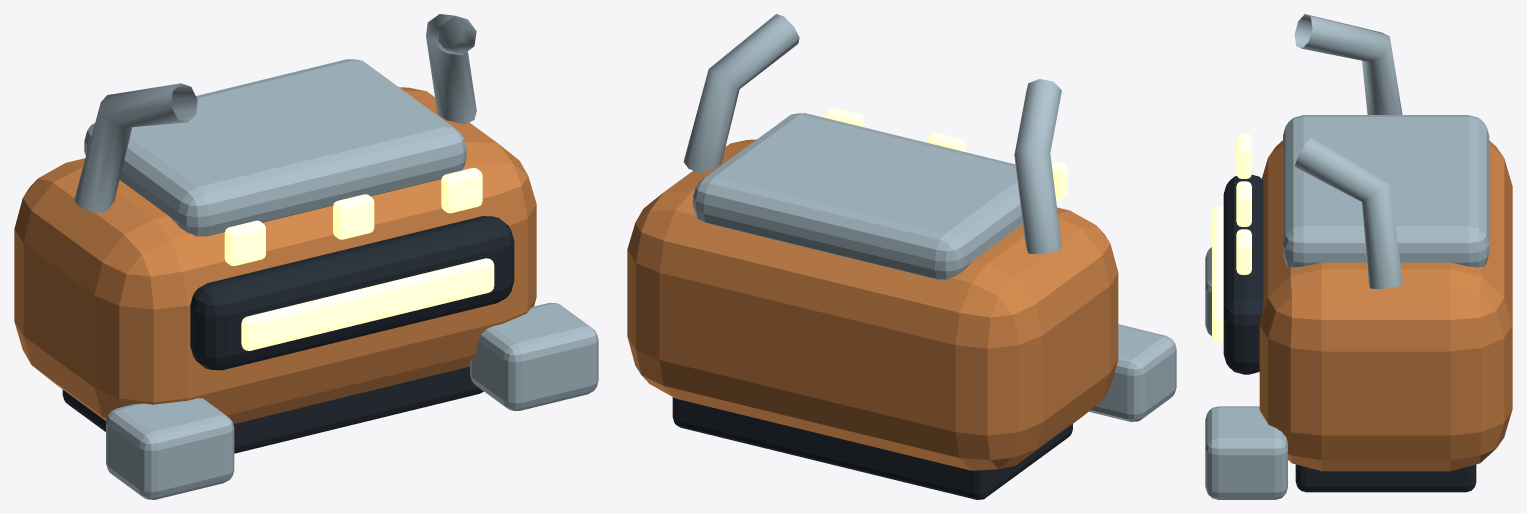
Rendered from SM_EnemyCharger.fbx.
3 renders of one model, left to right at view 1: azimuth 30°, elevation 25°; view 2: azimuth 150°, elevation 25°; view 3: azimuth 270°, elevation 25°, orthographic. The views are drawn at different scales.
Parts seen in each view (by area): view 1: SM_EnemyCharger; view 2: SM_EnemyCharger; view 3: SM_EnemyCharger.
Boxes of the visible parts, x1,y1,x2,y2 form: SM_EnemyCharger: (14,14,598,499); SM_EnemyCharger: (627,14,1176,499); SM_EnemyCharger: (1205,14,1512,499).
Size of the model in its own units: 93 by 59.5 by 73.7.
